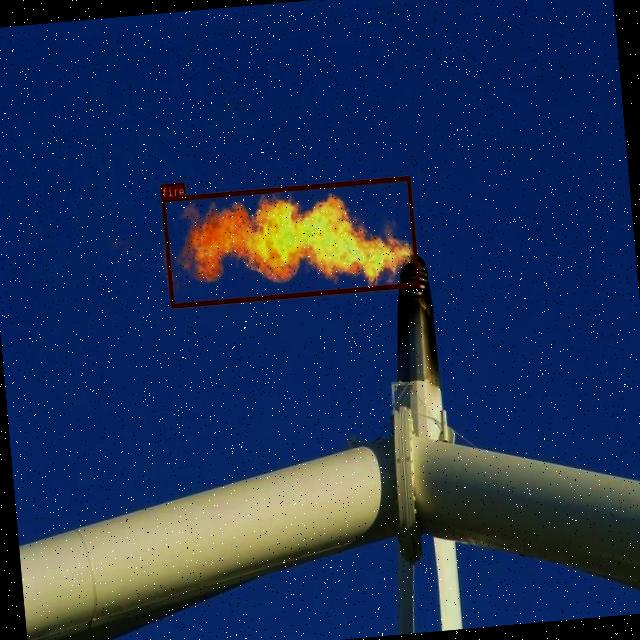fire: (160, 175, 418, 308)
